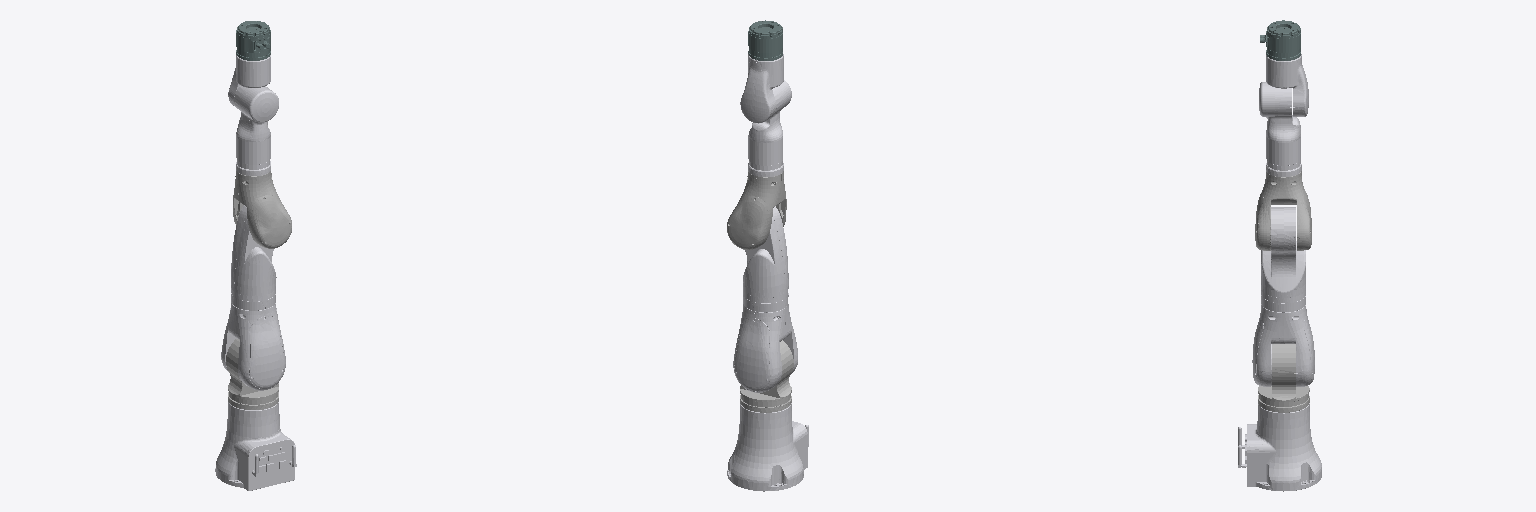
URDF robot description (1.0.20037961_BR-R63R):
<?xml version="1.0" encoding="utf-8"?>
<!-- This URDF was automatically created by SolidWorks to URDF Exporter! Originally created by Stephen Brawner (brawner@gmail.com) 
     Commit Version: 1.6.0-4-g7f85cfe  Build Version: 1.6.7995.38578
     For more information, please see http://wiki.ros.org/sw_urdf_exporter -->
<robot
  name="1.0.20037961_BR-R63R">
  <link
    name="base_link_J0">
    <inertial>
      <origin
        xyz="-1.3116E-05 -0.0062432 0.064846"
        rpy="0 0 0" />
      <mass
        value="5.1137" />
      <inertia
        ixx="0.015429"
        ixy="1.046E-06"
        ixz="-2.7731E-06"
        iyy="0.014063"
        iyz="-0.00026373"
        izz="0.01155" />
    </inertial>
    <visual>
      <origin
        xyz="0 0 0"
        rpy="0 0 0" />
      <geometry>
        <mesh
          filename="../meshes/base_link_J0.STL" />
      </geometry>
      <material
        name="">
        <color
          rgba="0.86667 0.86667 0.8902 1" />
      </material>
    </visual>
    <collision>
      <origin
        xyz="0 0 0"
        rpy="0 0 0" />
      <geometry>
        <mesh
          filename="../meshes/base_link_J0.STL" />
      </geometry>
    </collision>
  </link>
  <link
    name="LINK_01">
    <inertial>
      <origin
        xyz="-2.5773E-06 -2.6236E-06 -0.01725"
        rpy="0 0 0" />
      <mass
        value="0.54555" />
      <inertia
        ixx="0.0008505"
        ixy="1.5679E-08"
        ixz="-7.2726E-09"
        iyy="0.0010702"
        iyz="-5.8577E-08"
        izz="0.00054747" />
    </inertial>
    <visual>
      <origin
        xyz="0 0 0"
        rpy="0 0 0" />
      <geometry>
        <mesh
          filename="../meshes/LINK_01.STL" />
      </geometry>
      <material
        name="">
        <color
          rgba="0.75294 0.75294 0.75294 1" />
      </material>
    </visual>
    <collision>
      <origin
        xyz="0 0 0"
        rpy="0 0 0" />
      <geometry>
        <mesh
          filename="../meshes/LINK_01.STL" />
      </geometry>
    </collision>
  </link>
  <joint
    name="J1"
    type="revolute">
    <origin
      xyz="0 0 0.251"
      rpy="0 0 0" />
    <parent
      link="base_link_J0" />
    <child
      link="LINK_01" />
    <axis
      xyz="0 0 1" />
    <limit
      lower="-3.1416"
      upper="3.1416"
      effort="120"
      velocity="3.1416" />
  </joint>
  <link
    name="LINK_02">
    <inertial>
      <origin
        xyz="0.13417 -0.0076592 -2.3577E-05"
        rpy="0 0 0" />
      <mass
        value="6.0067" />
      <inertia
        ixx="0.0082863"
        ixy="-0.00031244"
        ixz="-5.3705E-05"
        iyy="0.023034"
        iyz="8.4104E-06"
        izz="0.021538" />
    </inertial>
    <visual>
      <origin
        xyz="0 0 0"
        rpy="0 0 0" />
      <geometry>
        <mesh
          filename="../meshes/LINK_02.STL" />
      </geometry>
      <material
        name="">
        <color
          rgba="0.86667 0.86667 0.8902 1" />
      </material>
    </visual>
    <collision>
      <origin
        xyz="0 0 0"
        rpy="0 0 0" />
      <geometry>
        <mesh
          filename="../meshes/LINK_02.STL" />
      </geometry>
    </collision>
  </link>
  <joint
    name="J2"
    type="revolute">
    <origin
      xyz="0 0 0"
      rpy="-1.5708 -1.4968 0" />
    <parent
      link="LINK_01" />
    <child
      link="LINK_02" />
    <axis
      xyz="0 0 1" />
    <limit
      lower="-1.745"
      upper="1.745"
      effort="120"
      velocity="3.1416" />
  </joint>
  <link
    name="LINK_03">
    <inertial>
      <origin
        xyz="-0.013466 -0.048994 0.0051365"
        rpy="0 0 0" />
      <mass
        value="0.34376" />
      <inertia
        ixx="0.0010223"
        ixy="-0.00014252"
        ixz="-2.3117E-05"
        iyy="0.00049338"
        iyz="-8.8931E-05"
        izz="0.00088132" />
    </inertial>
    <visual>
      <origin
        xyz="0 0 0"
        rpy="0 0 0" />
      <geometry>
        <mesh
          filename="../meshes/LINK_03.STL" />
      </geometry>
      <material
        name="">
        <color
          rgba="0.75294 0.75294 0.75294 1" />
      </material>
    </visual>
    <collision>
      <origin
        xyz="0 0 0"
        rpy="0 0 0" />
      <geometry>
        <mesh
          filename="../meshes/LINK_03.STL" />
      </geometry>
    </collision>
  </link>
  <joint
    name="J3"
    type="revolute">
    <origin
      xyz="0.30433 0 0"
      rpy="0 0 1.4968" />
    <parent
      link="LINK_02" />
    <child
      link="LINK_03" />
    <axis
      xyz="0 0 1" />
    <limit
      lower="-1.134"
      upper="2.705"
      effort="60"
      velocity="3.1416" />
  </joint>
  <link
    name="LINK_04">
    <inertial>
      <origin
        xyz="5.6396E-06 -0.0065246 -0.05542"
        rpy="0 0 0" />
      <mass
        value="1.6775" />
      <inertia
        ixx="0.0052372"
        ixy="3.7742E-07"
        ixz="-6.3511E-07"
        iyy="0.0050743"
        iyz="0.00058938"
        izz="0.0011032" />
    </inertial>
    <visual>
      <origin
        xyz="0 0 0"
        rpy="0 0 0" />
      <geometry>
        <mesh
          filename="../meshes/LINK_04.STL" />
      </geometry>
      <material
        name="">
        <color
          rgba="0.86667 0.86667 0.8902 1" />
      </material>
    </visual>
    <collision>
      <origin
        xyz="0 0 0"
        rpy="0 0 0" />
      <geometry>
        <mesh
          filename="../meshes/LINK_04.STL" />
      </geometry>
    </collision>
  </link>
  <joint
    name="J4"
    type="revolute">
    <origin
      xyz="-0.0225 -0.2765 0"
      rpy="1.5708 0.00017453 0" />
    <parent
      link="LINK_03" />
    <child
      link="LINK_04" />
    <axis
      xyz="0 0 1" />
    <limit
      lower="-3.1416"
      upper="3.1416"
      effort="30"
      velocity="5.235" />
  </joint>
  <link
    name="LINK_05">
    <inertial>
      <origin
        xyz="-4.0067E-06 -0.047466 0.011707"
        rpy="0 0 0" />
      <mass
        value="1.0347" />
      <inertia
        ixx="0.0018173"
        ixy="7.8658E-08"
        ixz="7.3596E-08"
        iyy="0.00082798"
        iyz="-0.00048225"
        izz="0.0016349" />
    </inertial>
    <visual>
      <origin
        xyz="0 0 0"
        rpy="0 0 0" />
      <geometry>
        <mesh
          filename="../meshes/LINK_05.STL" />
      </geometry>
      <material
        name="">
        <color
          rgba="0.86667 0.86667 0.8902 1" />
      </material>
    </visual>
    <collision>
      <origin
        xyz="0 0 0"
        rpy="0 0 0" />
      <geometry>
        <mesh
          filename="../meshes/LINK_05.STL" />
      </geometry>
    </collision>
  </link>
  <joint
    name="J5"
    type="revolute">
    <origin
      xyz="0 0 0"
      rpy="-1.5708 0 0" />
    <parent
      link="LINK_04" />
    <child
      link="LINK_05" />
    <axis
      xyz="0 0 1" />
    <limit
      lower="-2"
      upper="2"
      effort="30"
      velocity="5.235" />
  </joint>
  <link
    name="LINK_06">
    <inertial>
      <origin
        xyz="-4.178E-05 -0.00048311 -0.027949"
        rpy="0 0 0" />
      <mass
        value="0.51369" />
      <inertia
        ixx="0.00027468"
        ixy="-5.7888E-07"
        ixz="3.3783E-08"
        iyy="0.00026492"
        iyz="2.5612E-08"
        izz="0.00031132" />
    </inertial>
    <visual>
      <origin
        xyz="0 0 0"
        rpy="0 0 0" />
      <geometry>
        <mesh
          filename="../meshes/LINK_06.STL" />
      </geometry>
      <material
        name="">
        <color
          rgba="0.46667 0.53333 0.53333 1" />
      </material>
    </visual>
    <collision>
      <origin
        xyz="0 0 0"
        rpy="0 0 0" />
      <geometry>
        <mesh
          filename="../meshes/LINK_06.STL" />
      </geometry>
    </collision>
  </link>
  <joint
    name="J6"
    type="revolute">
    <origin
      xyz="0 -0.16 0"
      rpy="1.5708 -0.00017453 0" />
    <parent
      link="LINK_05" />
    <child
      link="LINK_06" />
    <axis
      xyz="0 0 1" />
    <limit
      lower="-3.1416"
      upper="3.1416"
      effort="30"
      velocity="5.235" />
  </joint>
</robot>

--- Render facts (derived) ---
The picture shows the robot from 3 angles, left to right: view 1: azimuth 30°, elevation 25°; view 2: azimuth 150°, elevation 25°; view 3: azimuth 270°, elevation 25°; orthographic projection.
Model 1.0.20037961_BR-R63R with 7 links and 6 joints (6 revolute), rooted at base_link_J0, posed every joint at zero.
Links seen in each view (by area): view 1: LINK_02, base_link_J0, LINK_04, LINK_03, LINK_01, LINK_06, LINK_05; view 2: LINK_02, base_link_J0, LINK_03, LINK_04, LINK_05, LINK_01, LINK_06; view 3: LINK_02, base_link_J0, LINK_04, LINK_03, LINK_01, LINK_05, LINK_06.
Link boxes in pixels (<box>): LINK_02: <box>221,205,285,390</box>; base_link_J0: <box>215,402,296,490</box>; LINK_04: <box>234,86,278,175</box>; LINK_03: <box>233,171,291,248</box>; LINK_01: <box>226,339,278,409</box>; LINK_06: <box>236,21,270,60</box>; LINK_05: <box>228,55,270,108</box>; LINK_02: <box>733,206,797,392</box>; base_link_J0: <box>727,403,808,491</box>; LINK_03: <box>727,171,786,249</box>; LINK_04: <box>748,80,791,176</box>; LINK_05: <box>740,54,783,123</box>; LINK_01: <box>740,340,793,412</box>; LINK_06: <box>748,20,782,60</box>; LINK_02: <box>1252,207,1314,386</box>; base_link_J0: <box>1238,403,1321,491</box>; LINK_04: <box>1259,82,1301,176</box>; LINK_03: <box>1255,171,1311,250</box>; LINK_01: <box>1258,344,1309,412</box>; LINK_05: <box>1266,54,1308,116</box>; LINK_06: <box>1260,20,1300,60</box>.
Size in the robot's own frame: 0.154 by 0.1689 by 0.991 metres.
7 mesh visuals loaded from 7 distinct referenced files (7 binary STL).
